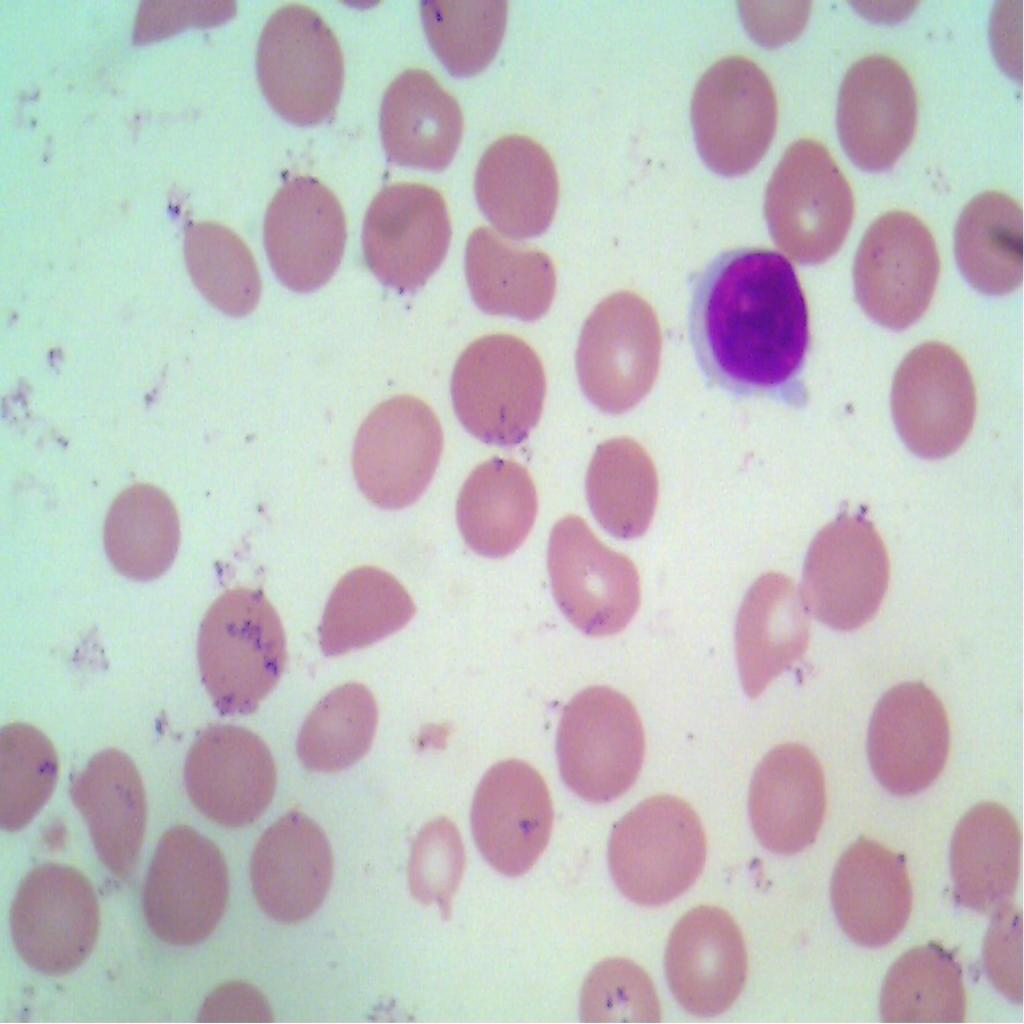Eritrosit: (751, 128, 855, 278), (841, 192, 946, 332), (731, 732, 836, 871), (253, 0, 360, 132), (449, 322, 558, 450), (186, 583, 300, 704), (256, 156, 353, 298), (606, 788, 714, 915), (574, 285, 671, 424), (829, 52, 931, 180), (138, 822, 238, 952), (826, 818, 920, 955), (684, 48, 778, 185), (858, 671, 954, 804), (716, 566, 815, 694), (660, 894, 758, 1023), (553, 672, 648, 805), (546, 518, 644, 646), (882, 340, 978, 467), (464, 127, 566, 244), (355, 378, 443, 511), (316, 558, 426, 664), (470, 746, 556, 881), (798, 502, 890, 628), (284, 672, 389, 781), (358, 177, 449, 302), (173, 200, 261, 326), (75, 735, 151, 879), (938, 785, 1024, 911), (455, 227, 559, 331), (90, 474, 186, 586), (13, 867, 108, 978), (943, 168, 1023, 298), (452, 452, 542, 566), (372, 64, 466, 172), (578, 435, 668, 541), (394, 797, 464, 912)
Limfosit: (683, 238, 814, 397)
